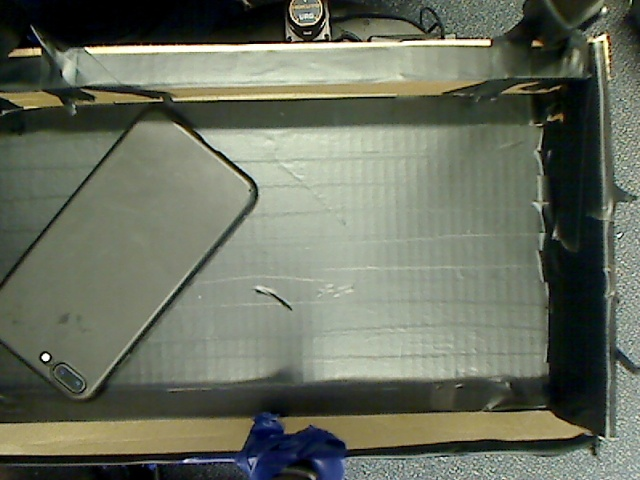phone: (1, 101, 288, 414)
